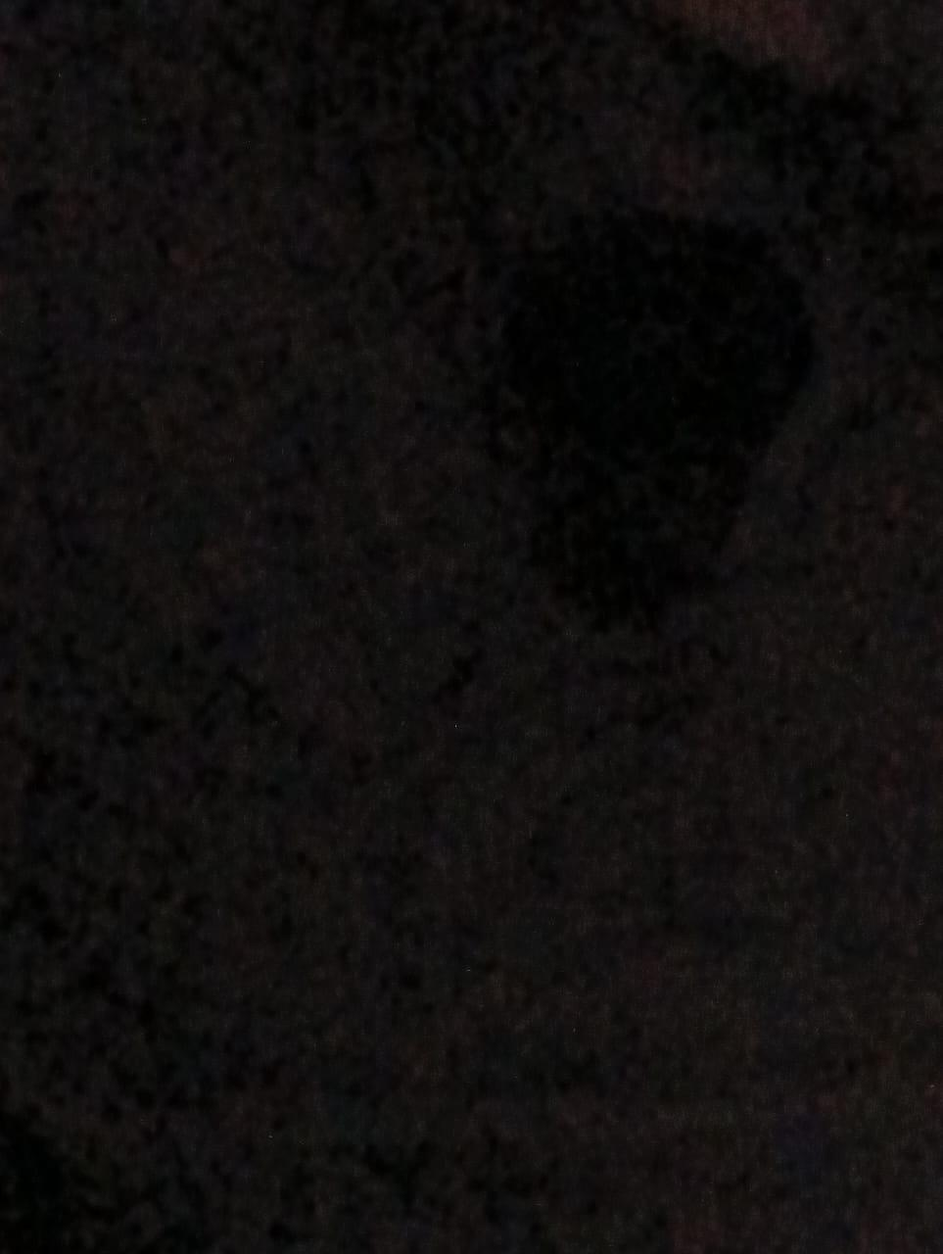cup: (492, 210, 813, 625)
